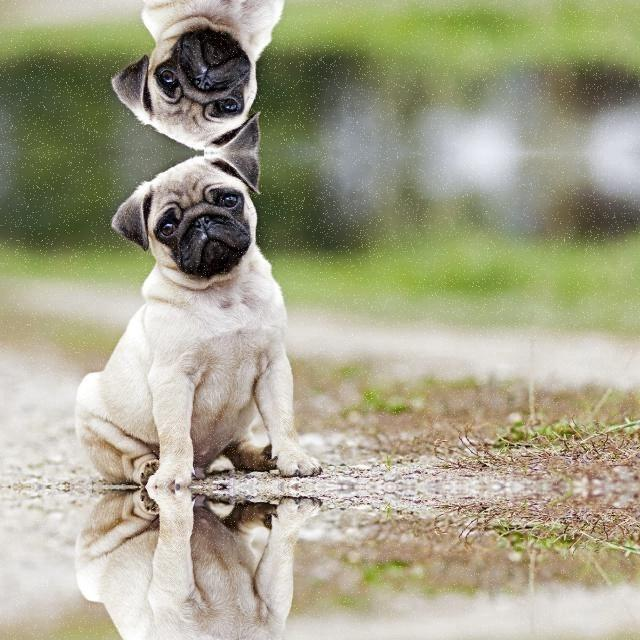dog: (74, 152, 304, 486), (74, 486, 304, 640), (74, 0, 304, 152)
